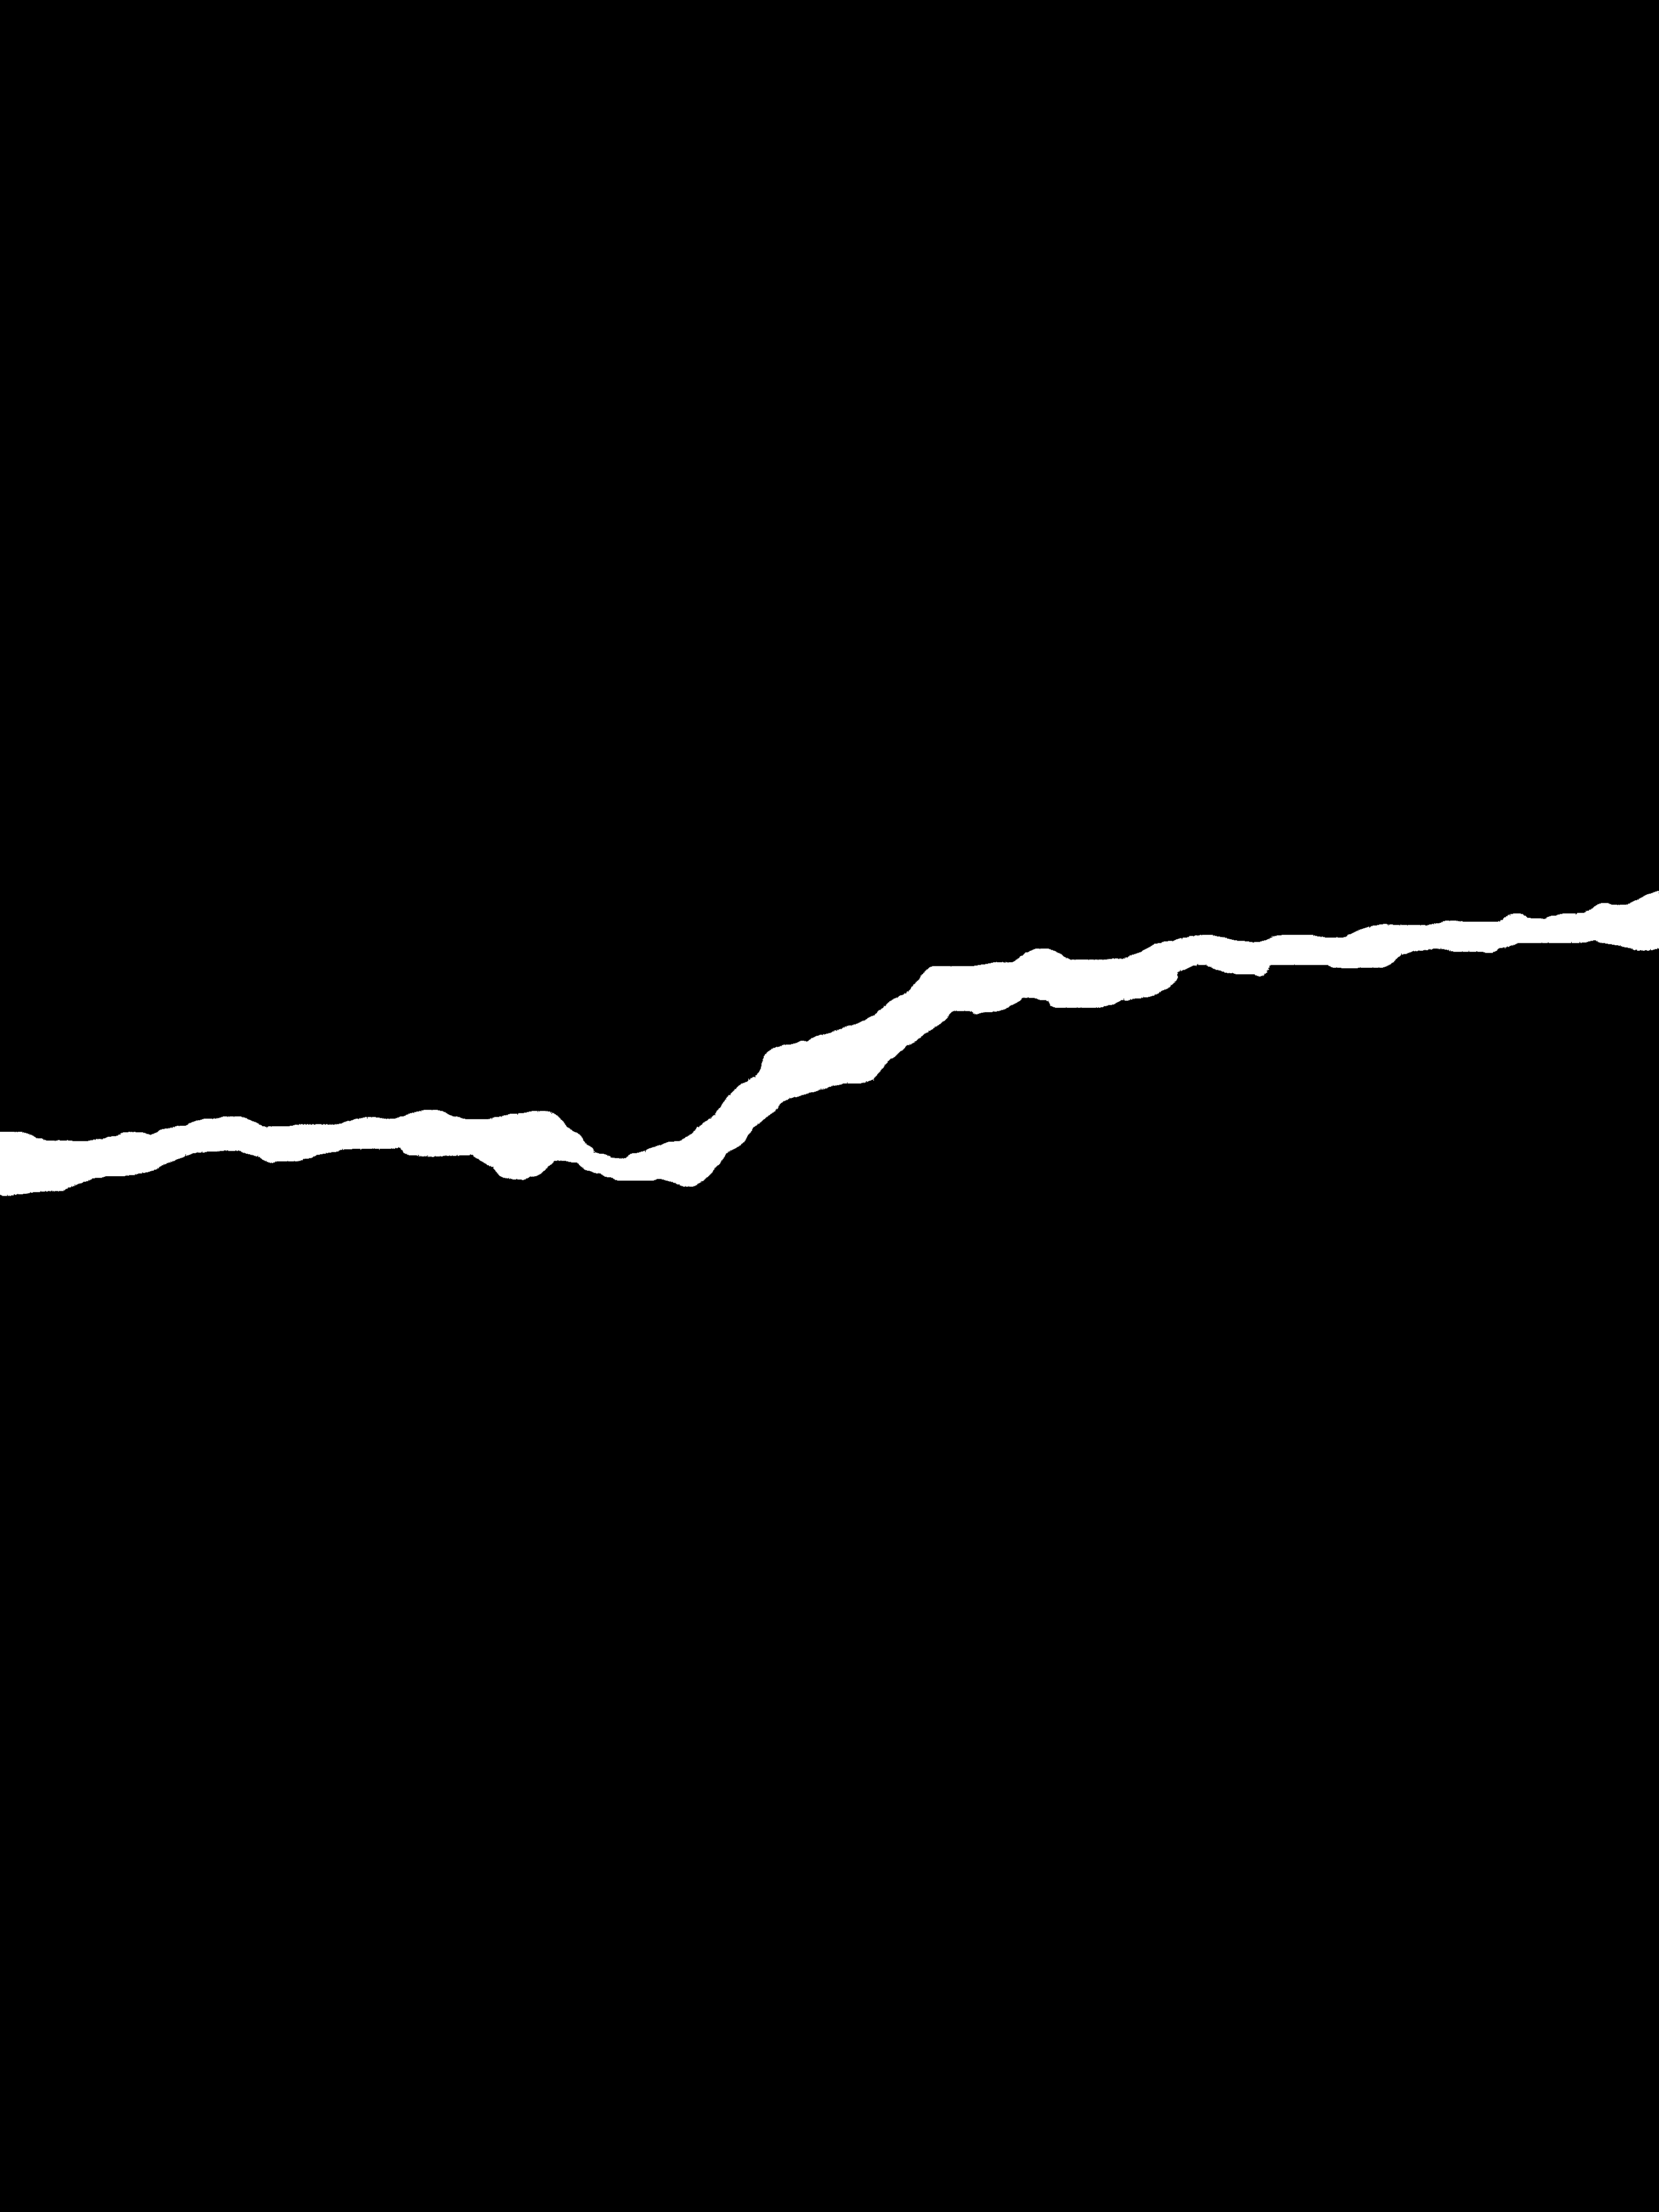Crack: (0, 862, 1659, 1211)
